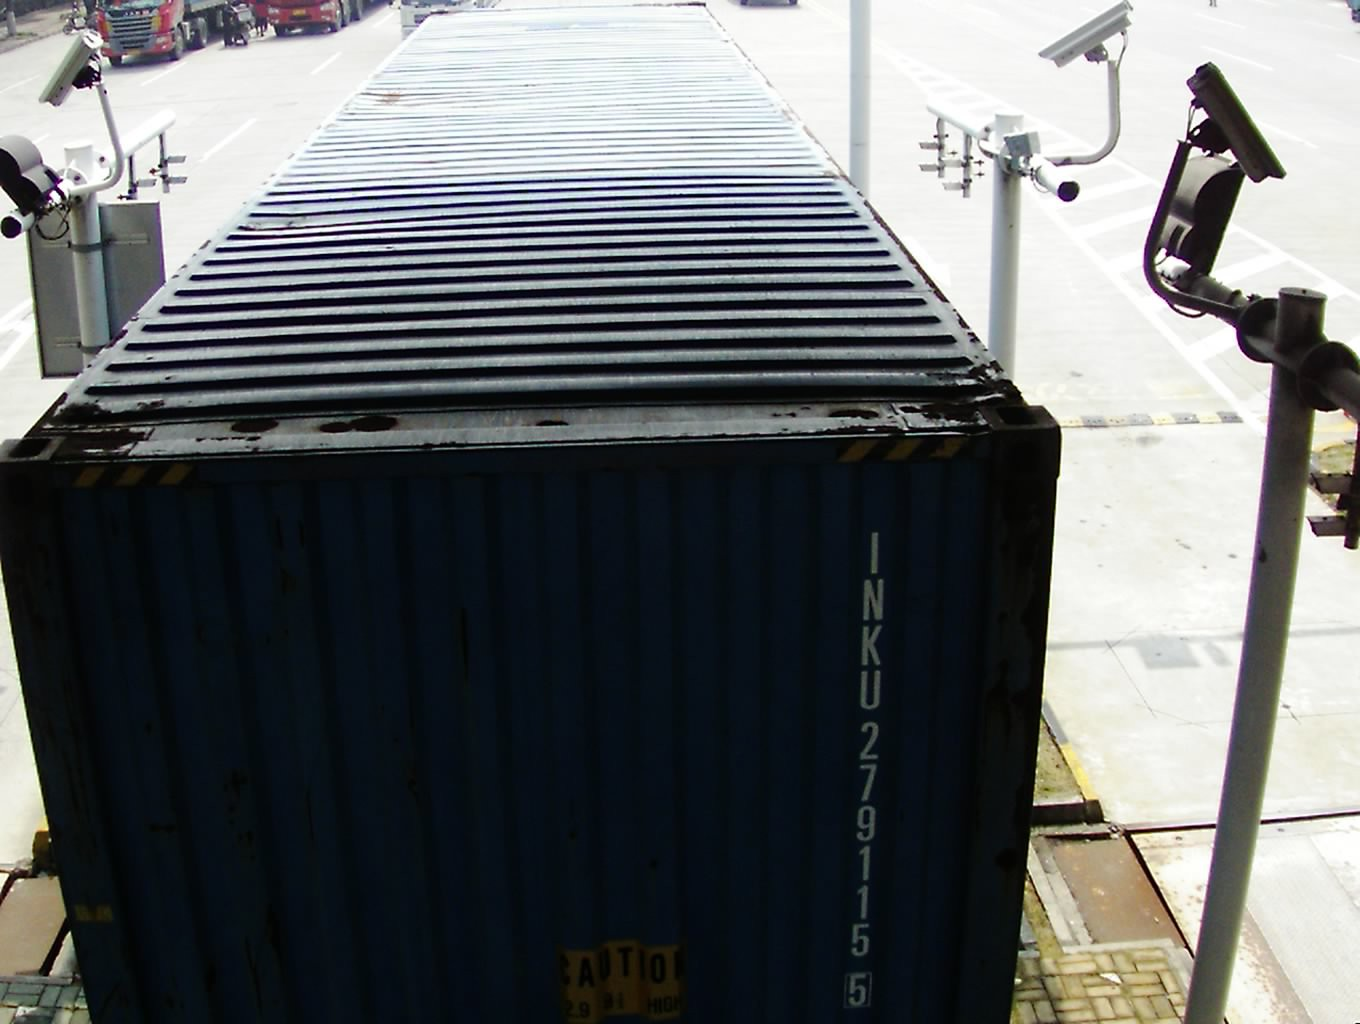words: (846, 520, 890, 1015)
